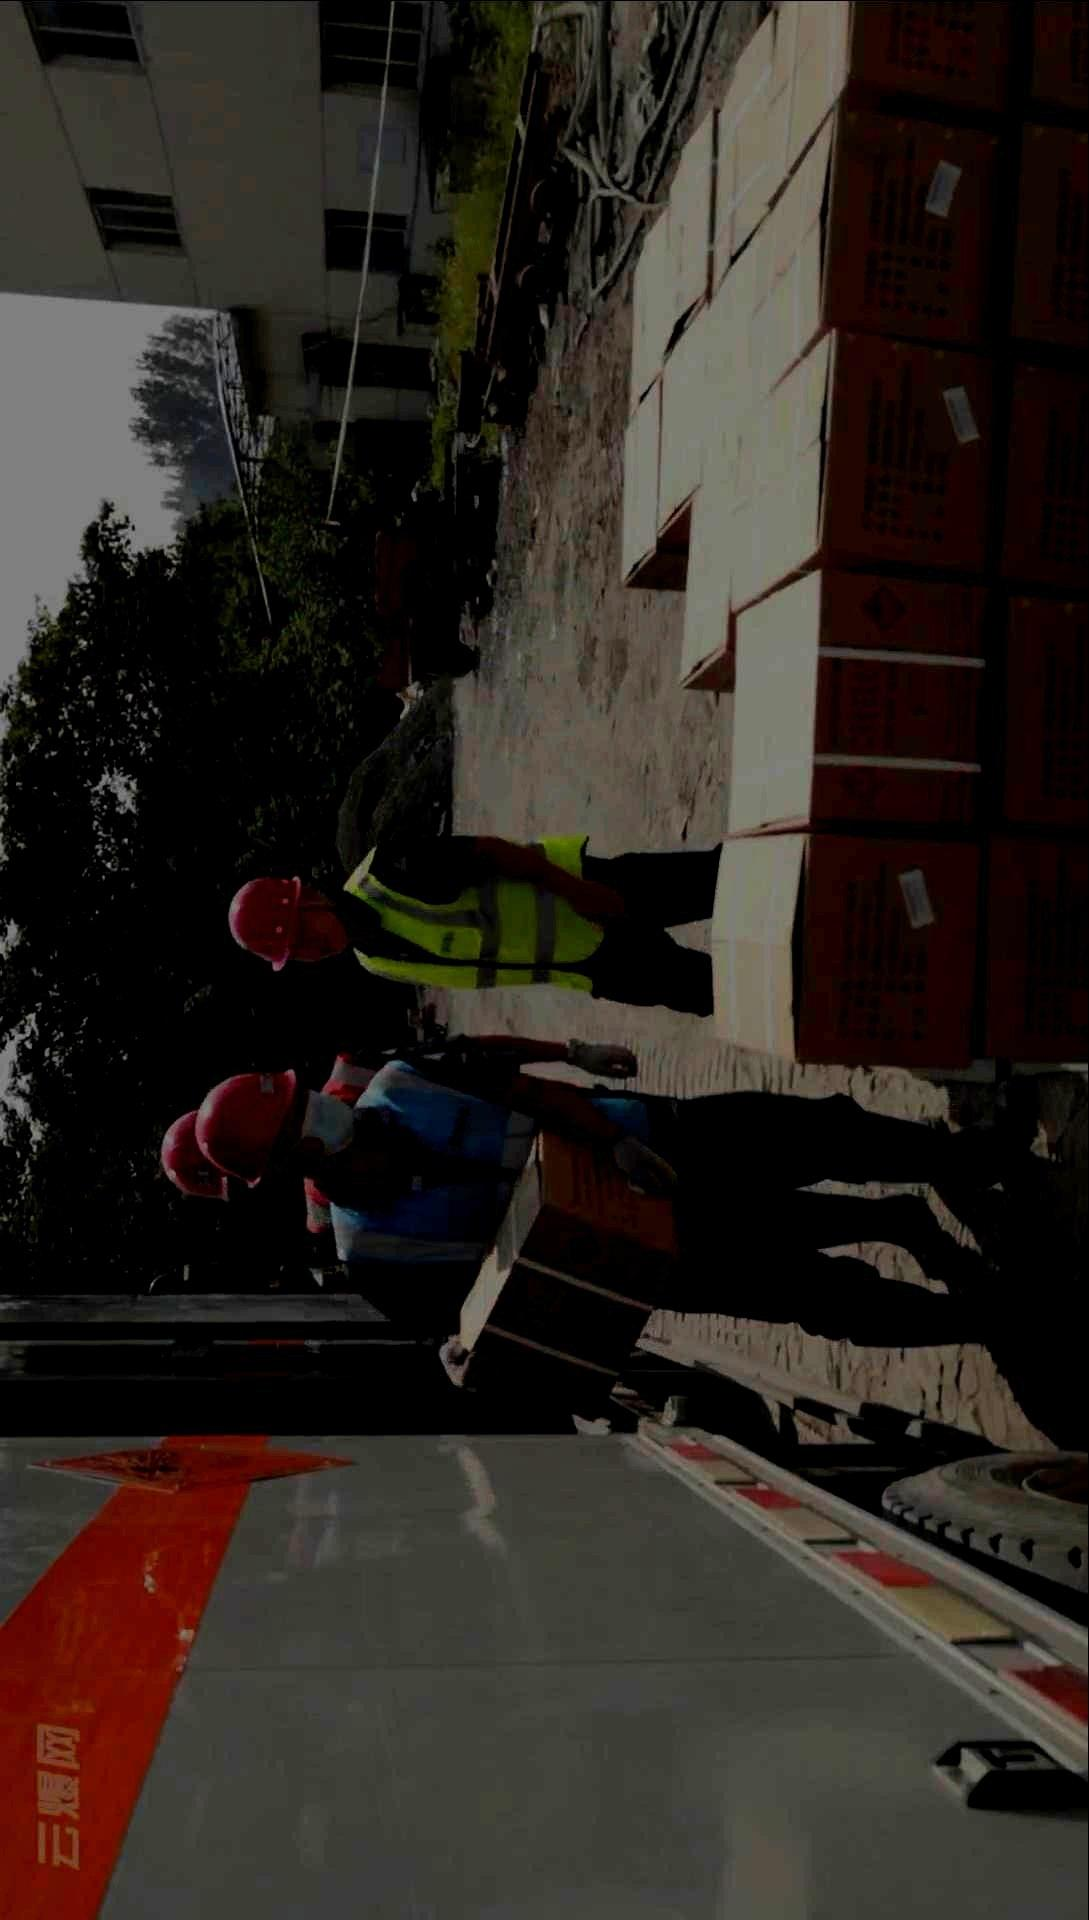helmet: (194, 1069, 353, 1189), (228, 877, 347, 972), (161, 1110, 231, 1201)
